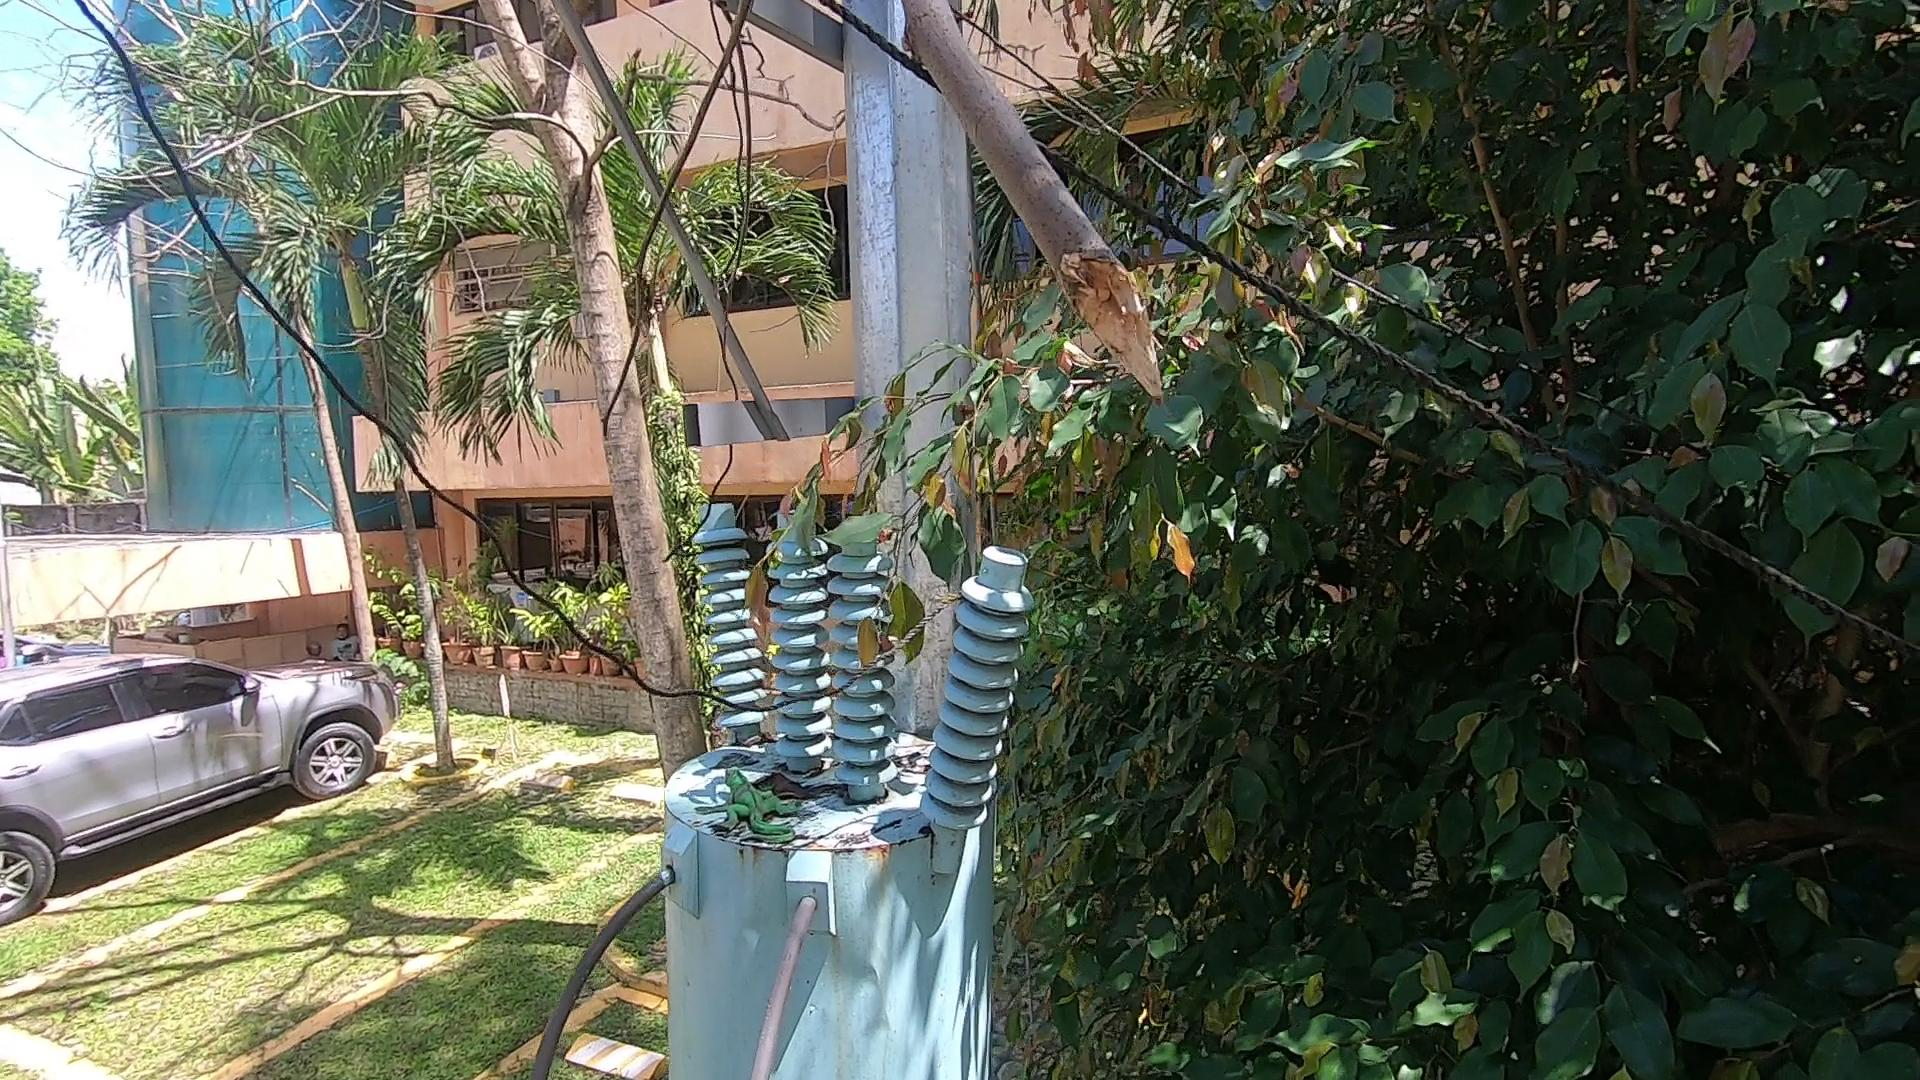branch with leaves: (720, 401, 986, 711)
leaf: (760, 770, 847, 811), (724, 735, 793, 757)
tree branch: (855, 3, 1183, 407)
